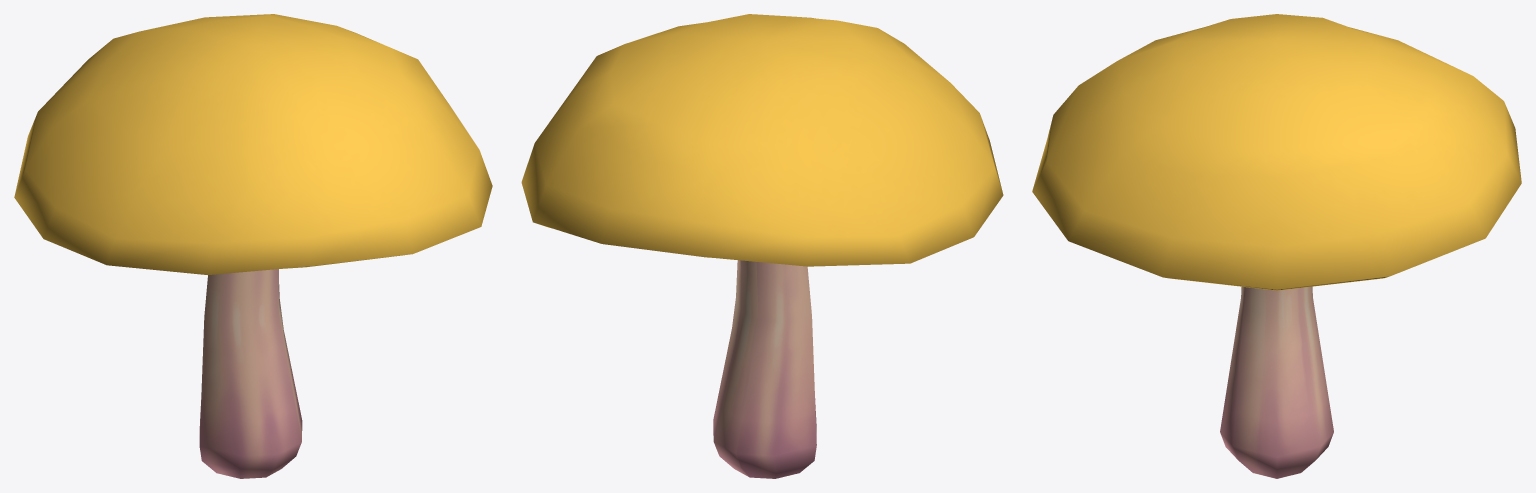
File: MD_mushroom_Nomal_M.fbx
3 renders of one model, left to right at view 1: azimuth 30°, elevation 25°; view 2: azimuth 150°, elevation 25°; view 3: azimuth 270°, elevation 25°, orthographic.
Parts seen in each view (by area): view 1: mushroom_Nomal_M1; view 2: mushroom_Nomal_M1; view 3: mushroom_Nomal_M1.
Part boxes in pixels (x1,y1,x2,y2): mushroom_Nomal_M1: [14, 14, 492, 478]; mushroom_Nomal_M1: [521, 14, 1003, 478]; mushroom_Nomal_M1: [1032, 14, 1521, 478].
Bounding box in the file's own units: 1433 × 1384 × 1447.
1 material, 1 textured.
